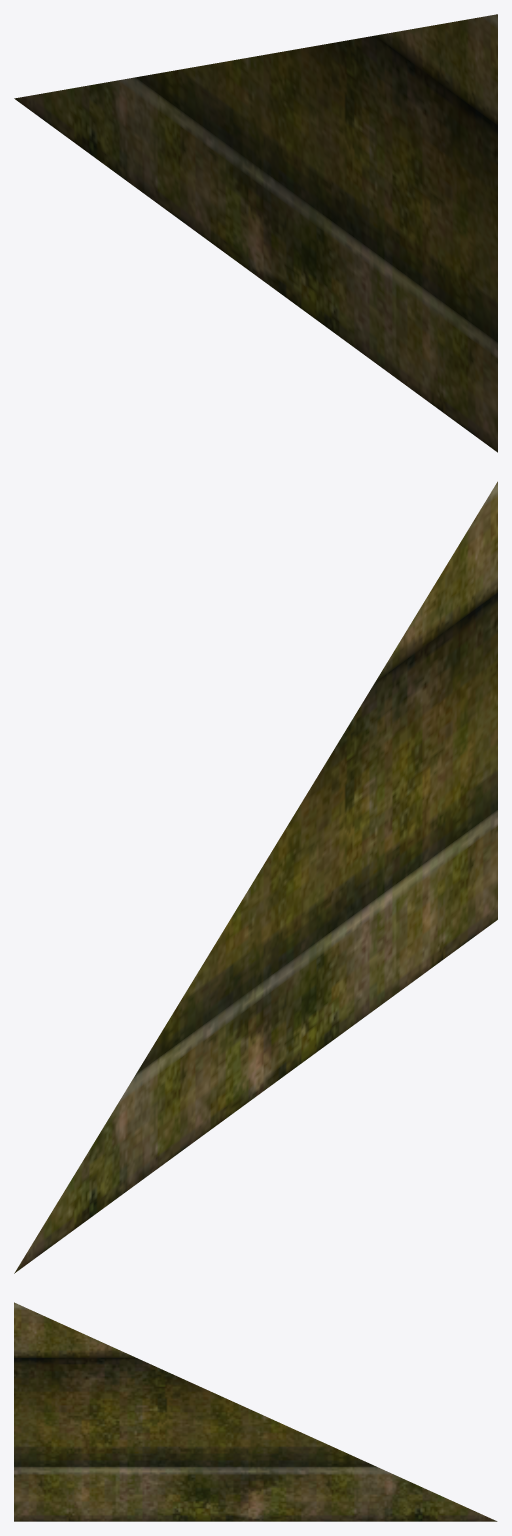
File: OVERHILL_A_01_LINE226.fbx
3 views of the same model, one above another, from view 1: azimuth 30°, elevation 25°; view 2: azimuth 150°, elevation 25°; view 3: azimuth 270°, elevation 25° (orthographic). The views are drawn at different scales.
Visible parts, largest first — view 1: OVERHILL_A_01_LINE226; view 2: OVERHILL_A_01_LINE226; view 3: OVERHILL_A_01_LINE226.
Boxes of the visible parts, x1,y1,x2,y2 form: OVERHILL_A_01_LINE226: (14,14,497,452); OVERHILL_A_01_LINE226: (14,481,497,1273); OVERHILL_A_01_LINE226: (14,1302,497,1521).
Bounding box in the file's own units: 0 × 5000 × 10000.
1 material, 1 textured.
